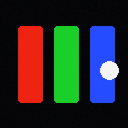2 circle: (100, 61, 118, 79)
